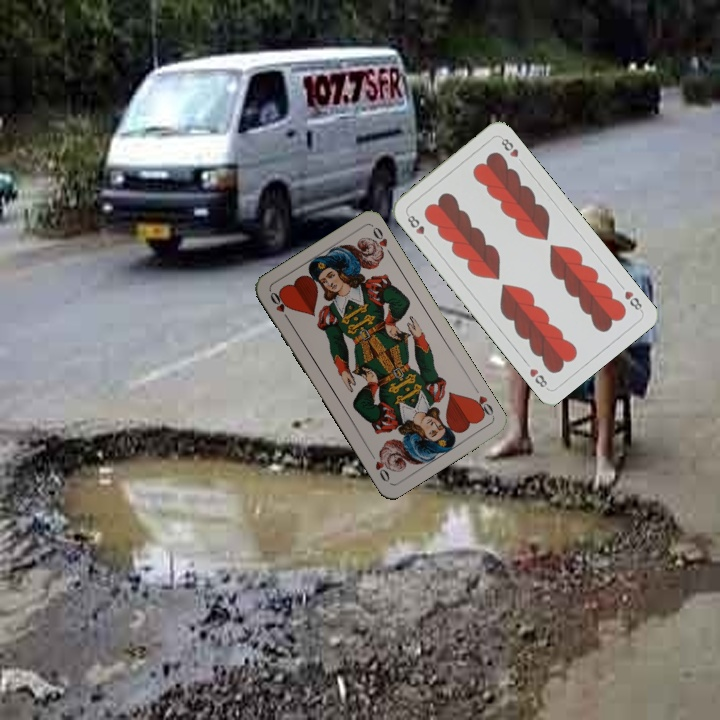H8: (403, 210, 432, 244), (620, 287, 645, 314)
HO: (266, 288, 293, 324), (468, 391, 497, 420)
